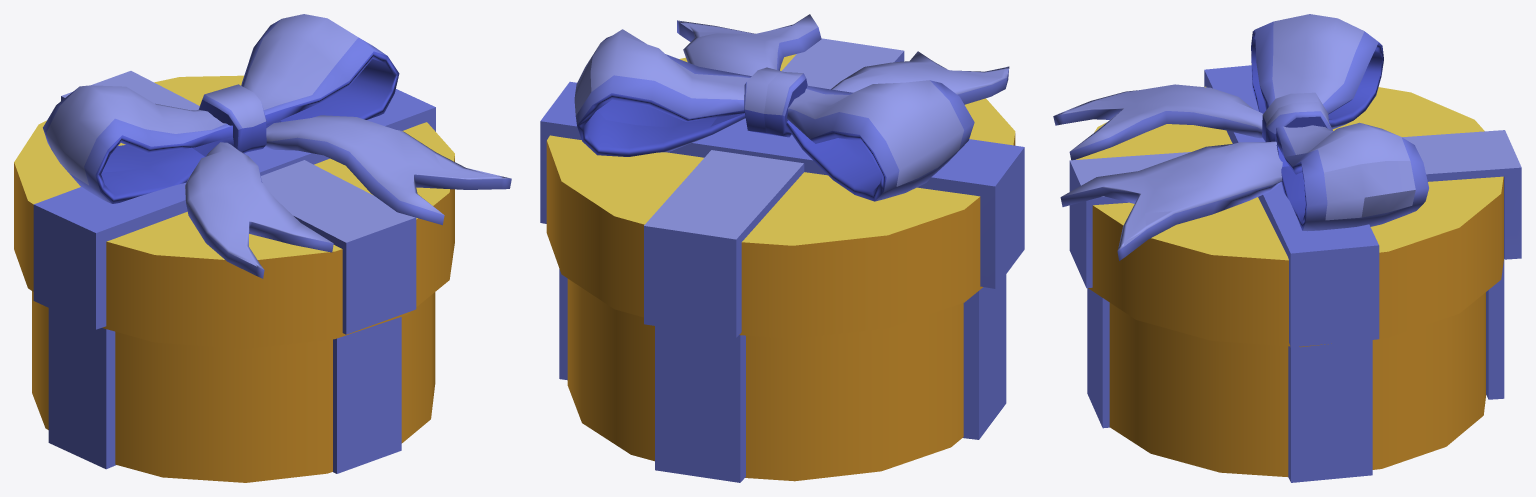
The model's file is qua.fbx.
The picture shows the model from 3 angles, left to right: view 1: azimuth 30°, elevation 25°; view 2: azimuth 150°, elevation 25°; view 3: azimuth 270°, elevation 25°; orthographic projection. The views are drawn at different scales.
Parts seen in each view (by area): view 1: hopqua, naphopqua; view 2: hopqua, naphopqua; view 3: hopqua, naphopqua.
Part boxes in pixels (x1,y1,x2,y2): hopqua: (14,14,511,348); naphopqua: (32,291,435,482); hopqua: (540,14,1024,338); naphopqua: (559,269,1006,482); hopqua: (1053,14,1521,347); naphopqua: (1087,258,1504,482).
Size of the model in its own units: 42.64 by 33.27 by 43.92.
